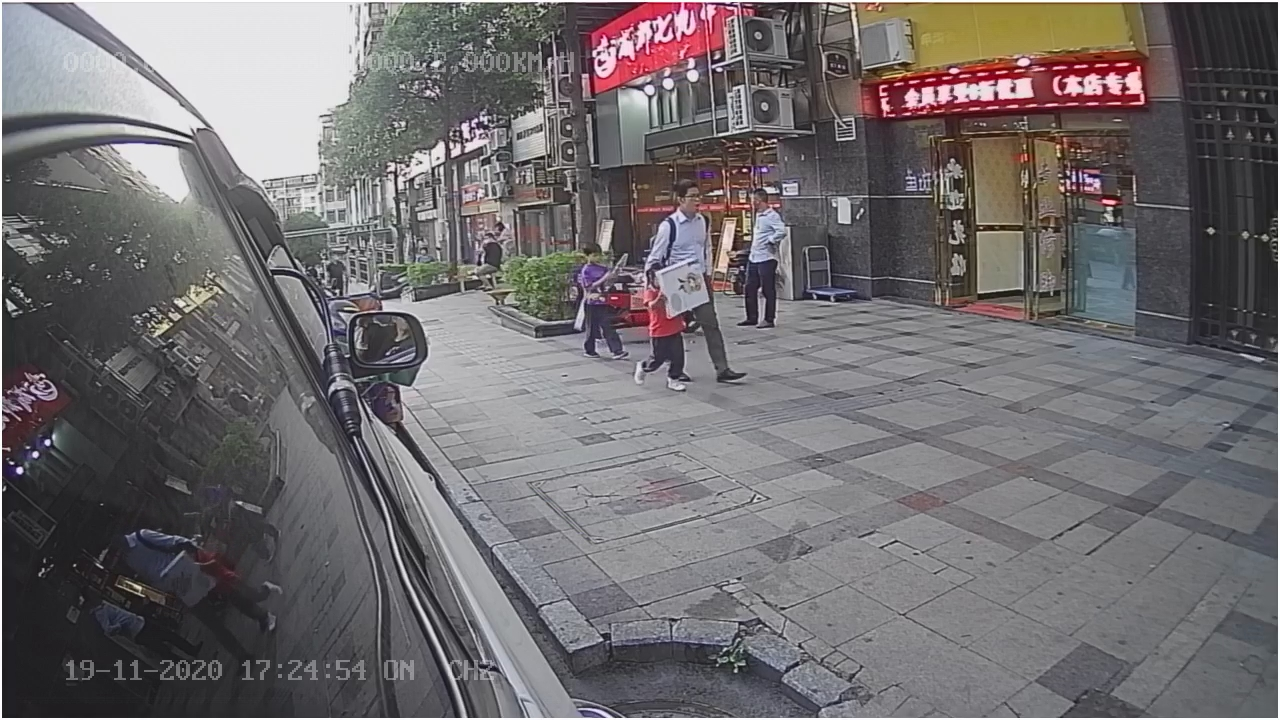person: (572, 233, 631, 367), (644, 178, 720, 275)
